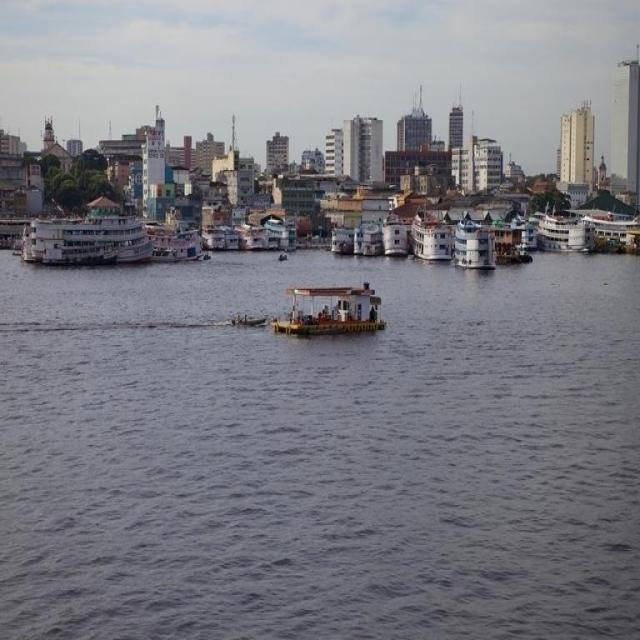Raft: (271, 284, 388, 344)
boat: (26, 212, 146, 274), (449, 219, 498, 274), (534, 216, 590, 253), (413, 210, 448, 266), (226, 310, 267, 339), (325, 223, 355, 262), (381, 216, 408, 258), (272, 252, 292, 264)
